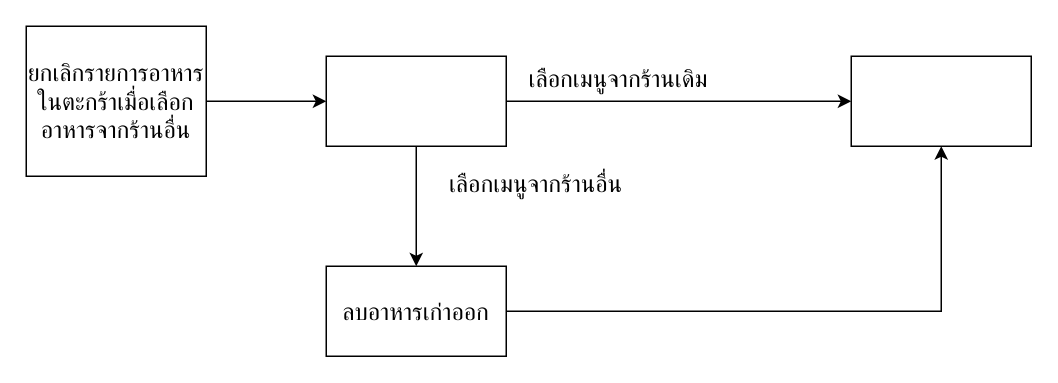
Image size: 1058x383. Some labels were removed from this diagram. Here are the shapes that lost their labels. From the top down, the centre of each, then its label:
At pixel 415 100: "ถ้ามีอาหารอยู่ในตะกร้า".
At pixel 940 100: "เลือกเมนู".
